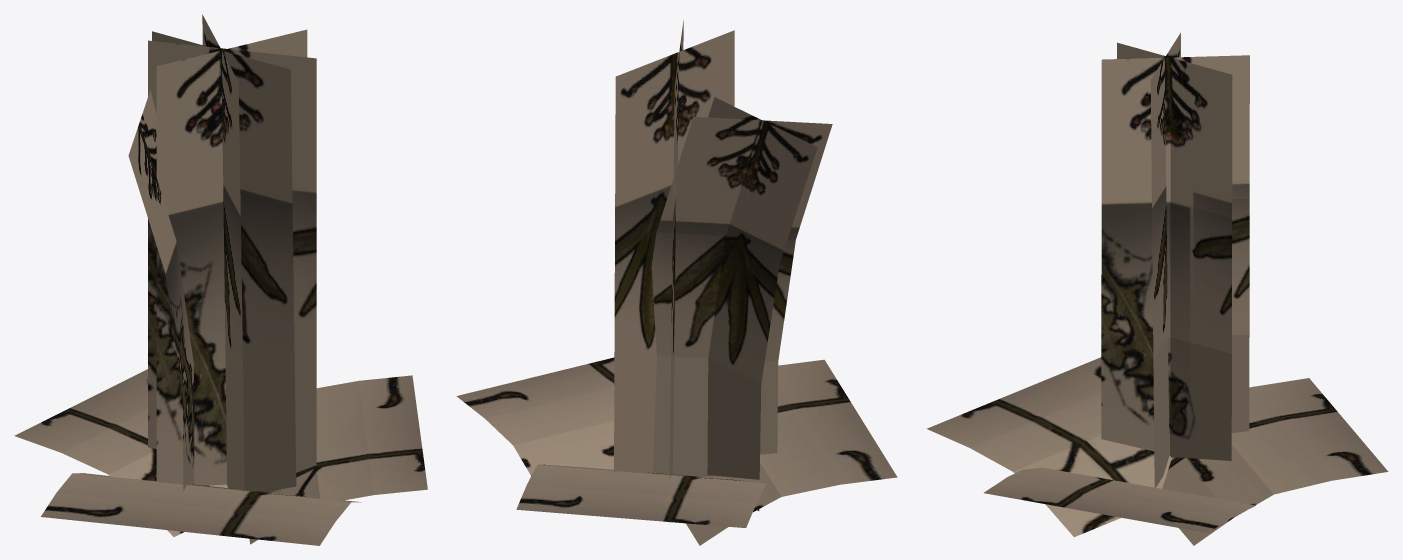
Rendered from Weeds_05.gltf.
3 renders of one model, left to right at view 1: azimuth 30°, elevation 25°; view 2: azimuth 150°, elevation 25°; view 3: azimuth 270°, elevation 25°, orthographic. The views are drawn at different scales.
Parts seen in each view (by area): view 1: Weeds_05; view 2: Weeds_05; view 3: Weeds_05.
Boxes of the visible parts, x1=… form: Weeds_05: x1=14, y1=14, x2=427, y2=545; Weeds_05: x1=456, y1=20, x2=897, y2=545; Weeds_05: x1=927, y1=32, x2=1388, y2=545.
Size of the model in its own units: 0.5143 by 0.538 by 0.5041.
Materials: 1 (1 with a texture image).
